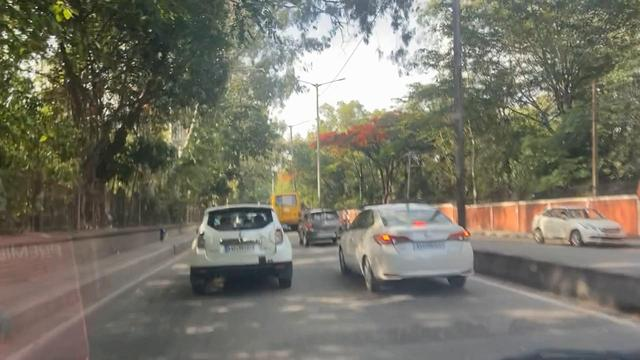LMV: (345, 205, 472, 288), (193, 205, 291, 285), (295, 208, 341, 245)
